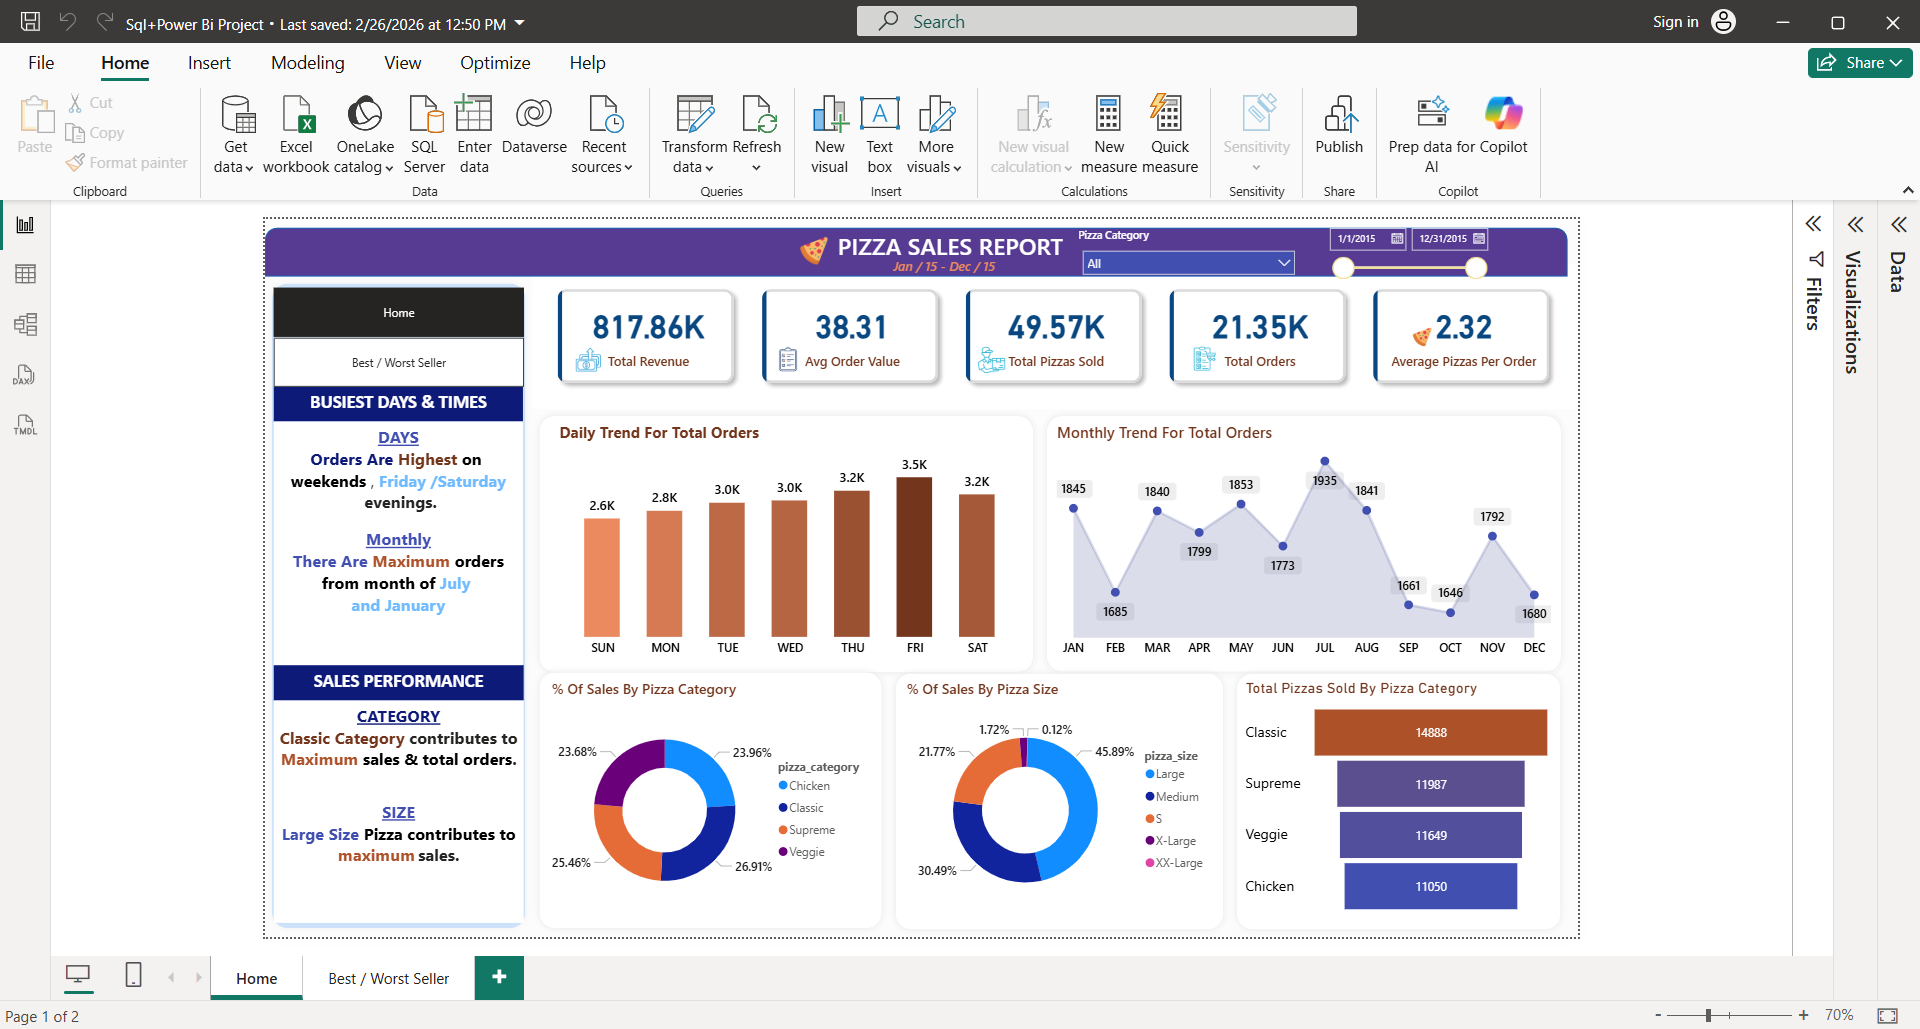

The dashboard page shown, as its layout file describes it:
{"tool":"powerbi","page":{"name":"Home","canvas":[1500,820],"ordinal":0},"visuals":[{"type":"shape","box":[305.7,217.1,580,308.6],"z":0},{"type":"cardVisual","fields":{"Data":["pizza_sales.Total Revenue","pizza_sales.Avg Order Value","pizza_sales.Total Pizzas Sold","pizza_sales.Total Orders","pizza_sales.Average Pizzas Per Order"]},"box":[305.7,51.4,1194.3,165.7],"z":1000},{"type":"image","box":[351.4,144.3,35.7,32.9],"z":2000},{"type":"image","box":[579.1,146.4,38.2,29.1],"z":3000},{"type":"image","box":[813.6,143.6,31.8,33.6],"z":4000},{"type":"image","box":[1058.2,146.4,31.8,28.2],"z":5000},{"type":"image","box":[598.6,20,37.1,32.9],"z":6000},{"type":"shape","box":[0,10,1488.6,55.7],"z":7000},{"type":"textbox","box":[635.7,7.1,295.7,58.6],"z":8000},{"type":"textbox","box":[713,38,143,34],"z":9000},{"type":"image","box":[609.1,20,37.3,32.7],"z":10000},{"type":"image","box":[1311.1,122.2,22.2,24.4],"z":11000},{"type":"shape","box":[885,216.7,603.3,308.3],"z":12000},{"type":"columnChart","title":"Daily Trend For Total Orders","fields":{"Category":["pizza_sales.Order Day"],"Y":["pizza_sales.Total Orders"]},"box":[331.7,231.7,538.3,278.3],"z":13000},{"type":"areaChart","title":"Monthly Trend For Total Orders","fields":{"Y":["pizza_sales.Total Orders"],"Category":["pizza_sales.Order Month"]},"box":[900,231.7,575,278.3],"z":14000},{"type":"shape","box":[305.7,510,407.1,308.6],"z":15000},{"type":"shape","box":[712.9,511.4,390,308.6],"z":16000},{"type":"shape","box":[1102.9,511.4,385.7,308.6],"z":17000},{"type":"donutChart","title":"% Of Sales By Pizza Category","fields":{"Series":["pizza_sales.pizza_category"],"Y":["pizza_sales.Total Revenue"]},"box":[322.9,525.7,377.1,278.6],"z":18000},{"type":"donutChart","title":"% Of Sales By Pizza Size","fields":{"Y":["pizza_sales.Total Revenue"],"Series":["pizza_sales.pizza_size"]},"box":[728.6,525.7,361.4,278.6],"z":19000},{"type":"funnel","title":"Total Pizzas Sold By Pizza Category","fields":{"Y":["pizza_sales.Total Pizzas Sold"],"Category":["pizza_sales.pizza_category"]},"box":[1115.7,525.7,360,278.6],"z":20000},{"type":"shape","box":[0,65.7,305.7,752.9],"z":21000},{"type":"textbox","box":[10,191.7,285,40],"z":22000},{"type":"textbox","box":[10,231.7,285,278.3],"z":23000},{"type":"textbox","box":[10,550,285.6,254.4],"z":24000},{"type":"textbox","box":[10,510,285.6,40],"z":25000},{"type":"slicer","title":"Pizza Category","fields":{"Values":["pizza_sales.pizza_category"]},"box":[923.6,10,262.7,55.5],"z":26000},{"type":"slicer","title":"Pizza Category","fields":{"Values":["pizza_sales.order_date"]},"box":[1203.8,0,201.2,71.2],"z":27000},{"type":"pageNavigator","box":[10,135,286.7,56.7],"z":27001},{"type":"pageNavigator","box":[10,78.3,286.7,56.7],"z":27002}]}

Visuals, with their boxes on the page's 1500x820 design canvas (x1, y1, x2, y2). These are canvas units, not pixel positions in the 1920x1029 screenshot, which may show the page scaled, cropped or inside an application window:
shape: bbox=(306, 217, 886, 526)
cardVisual - pizza_sales.Total Revenue x pizza_sales.Avg Order Value: bbox=(306, 51, 1500, 217)
image: bbox=(351, 144, 387, 177)
image: bbox=(579, 146, 617, 176)
image: bbox=(814, 144, 845, 177)
image: bbox=(1058, 146, 1090, 175)
image: bbox=(599, 20, 636, 53)
shape: bbox=(0, 10, 1489, 66)
textbox: bbox=(636, 7, 931, 66)
textbox: bbox=(713, 38, 856, 72)
image: bbox=(609, 20, 646, 53)
image: bbox=(1311, 122, 1333, 147)
shape: bbox=(885, 217, 1488, 525)
"Daily Trend For Total Orders" columnChart: bbox=(332, 232, 870, 510)
"Monthly Trend For Total Orders" areaChart: bbox=(900, 232, 1475, 510)
shape: bbox=(306, 510, 713, 819)
shape: bbox=(713, 511, 1103, 820)
shape: bbox=(1103, 511, 1489, 820)
"% Of Sales By Pizza Category" donutChart: bbox=(323, 526, 700, 804)
"% Of Sales By Pizza Size" donutChart: bbox=(729, 526, 1090, 804)
"Total Pizzas Sold By Pizza Category" funnel: bbox=(1116, 526, 1476, 804)
shape: bbox=(0, 66, 306, 819)
textbox: bbox=(10, 192, 295, 232)
textbox: bbox=(10, 232, 295, 510)
textbox: bbox=(10, 550, 296, 804)
textbox: bbox=(10, 510, 296, 550)
"Pizza Category" slicer: bbox=(924, 10, 1186, 66)
"Pizza Category" slicer: bbox=(1204, 0, 1405, 71)
pageNavigator: bbox=(10, 135, 297, 192)
pageNavigator: bbox=(10, 78, 297, 135)
